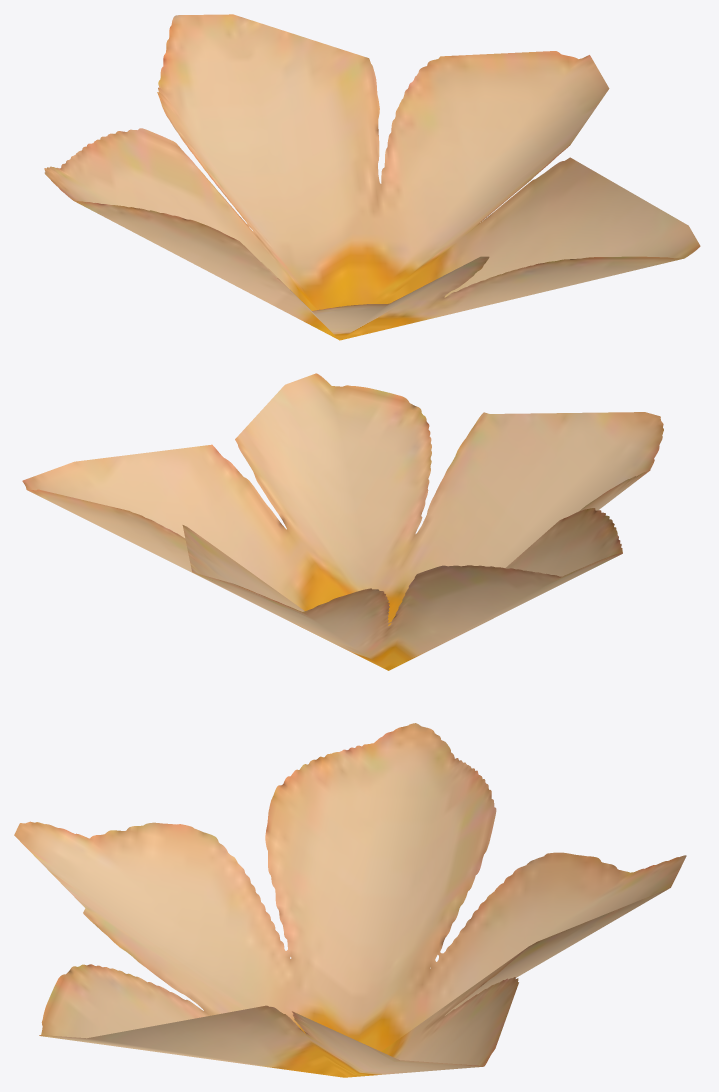
The model's file is sn_petal_2.glb.
3 renders of one model, top to bottom at view 1: azimuth 30°, elevation 25°; view 2: azimuth 150°, elevation 25°; view 3: azimuth 270°, elevation 25°, orthographic. The views are drawn at different scales.
Parts seen in each view (by area): view 1: Petal_2; view 2: Petal_2; view 3: Petal_2.
Boxes of the visible parts, x1,y1,x2,y2 form: Petal_2: (44, 14, 700, 340); Petal_2: (22, 373, 663, 670); Petal_2: (14, 723, 686, 1077).
Size of the model in its own units: 0.6732 by 0.236 by 0.6311.
1 material, 1 textured.
